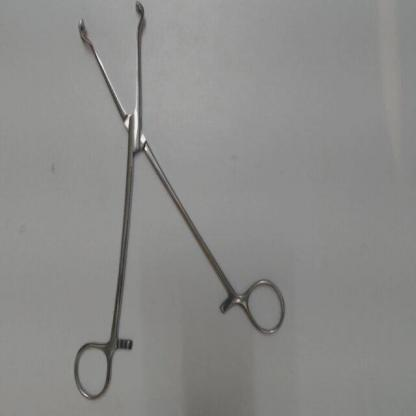8 Babcock Tissue Forceps: (68, 1, 294, 408)
